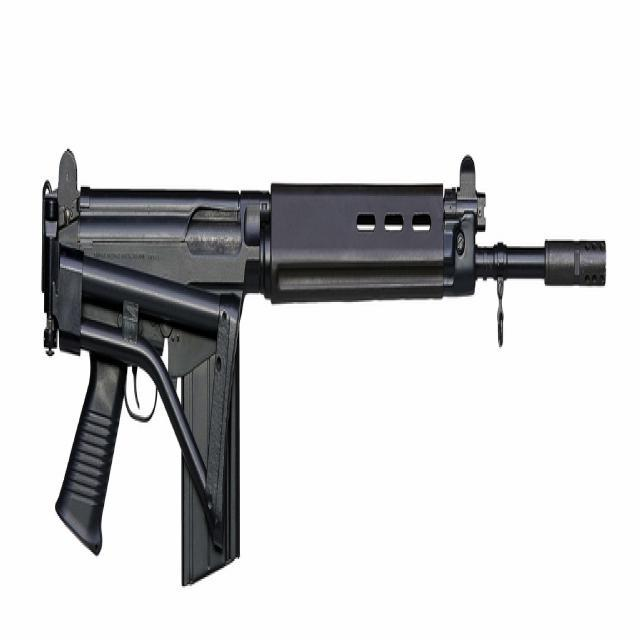weapon: (41, 148, 607, 587)
